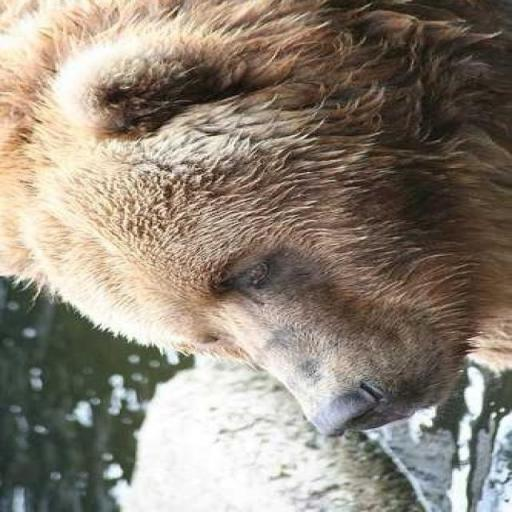Bear: (0, 0, 510, 438)
